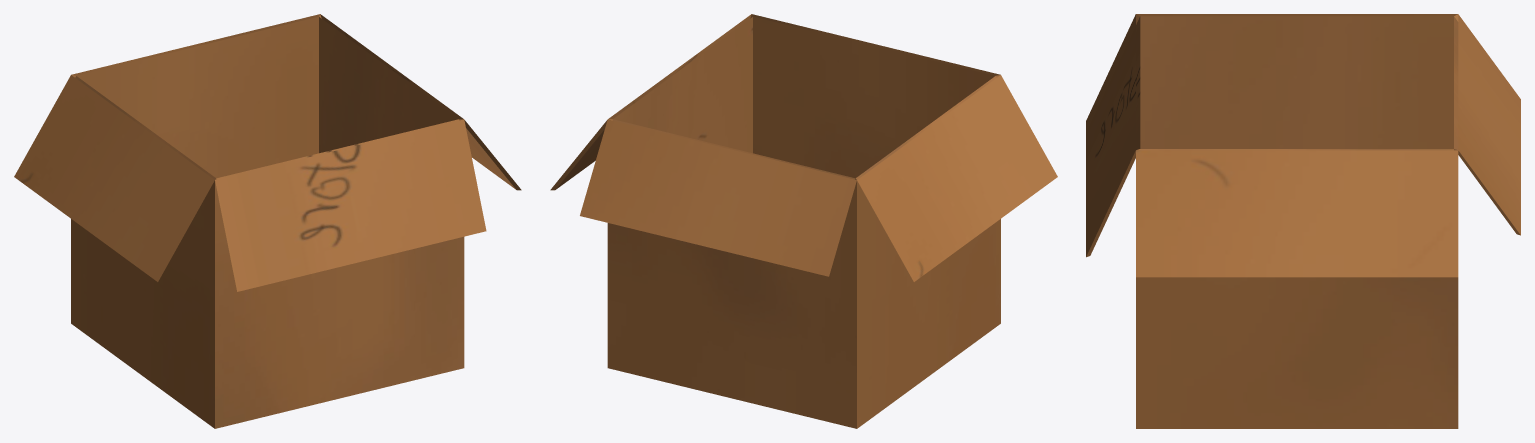
The model's file is cardboard_box1.fbx.
The picture shows the model from 3 angles, left to right: view 1: azimuth 30°, elevation 25°; view 2: azimuth 150°, elevation 25°; view 3: azimuth 270°, elevation 25°; orthographic projection. The views are drawn at different scales.
Visible parts, largest first — view 1: pCube26; view 2: pCube26; view 3: pCube26.
Part boxes in pixels (left/top/right/bottom): pCube26: left=14, top=14, right=521, bottom=428; pCube26: left=550, top=14, right=1057, bottom=428; pCube26: left=1086, top=14, right=1520, bottom=428.
Bounding box in the file's own units: 8.76 × 5.72 × 8.09.
Materials: 1 (1 with a texture image).
